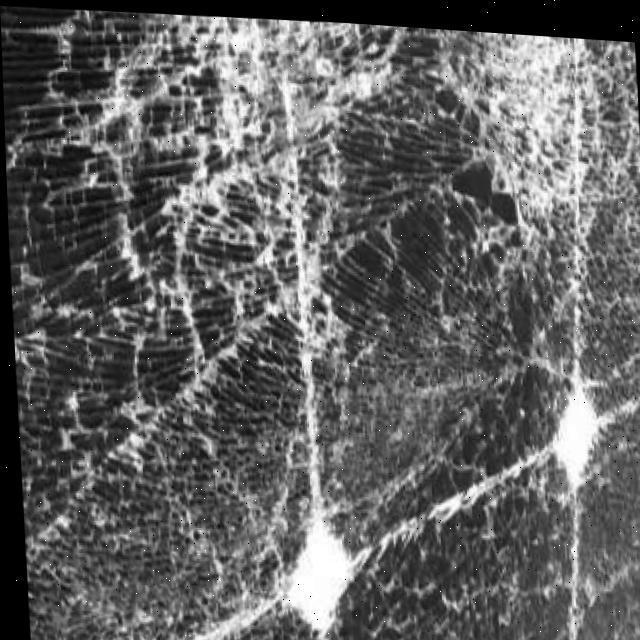Anomaly Solar Panel: (0, 6, 640, 640)
Structural Damage: (21, 6, 432, 432), (419, 22, 640, 381)
